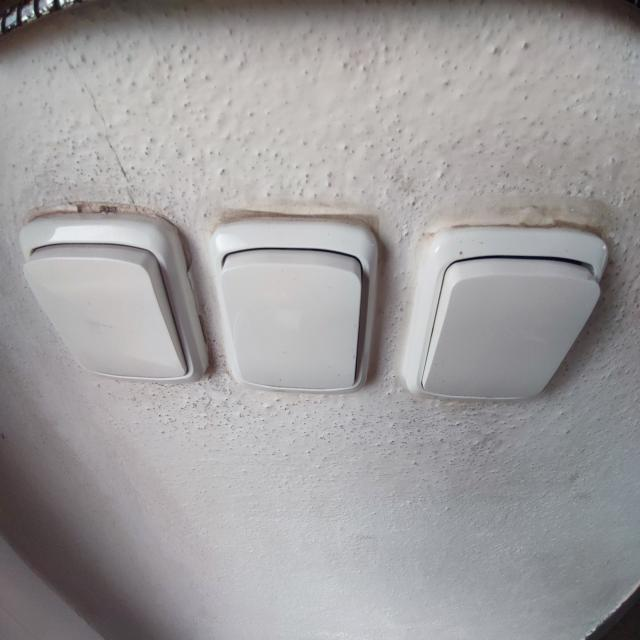house switch: (401, 224, 608, 403), (20, 210, 207, 385), (210, 215, 378, 396)
